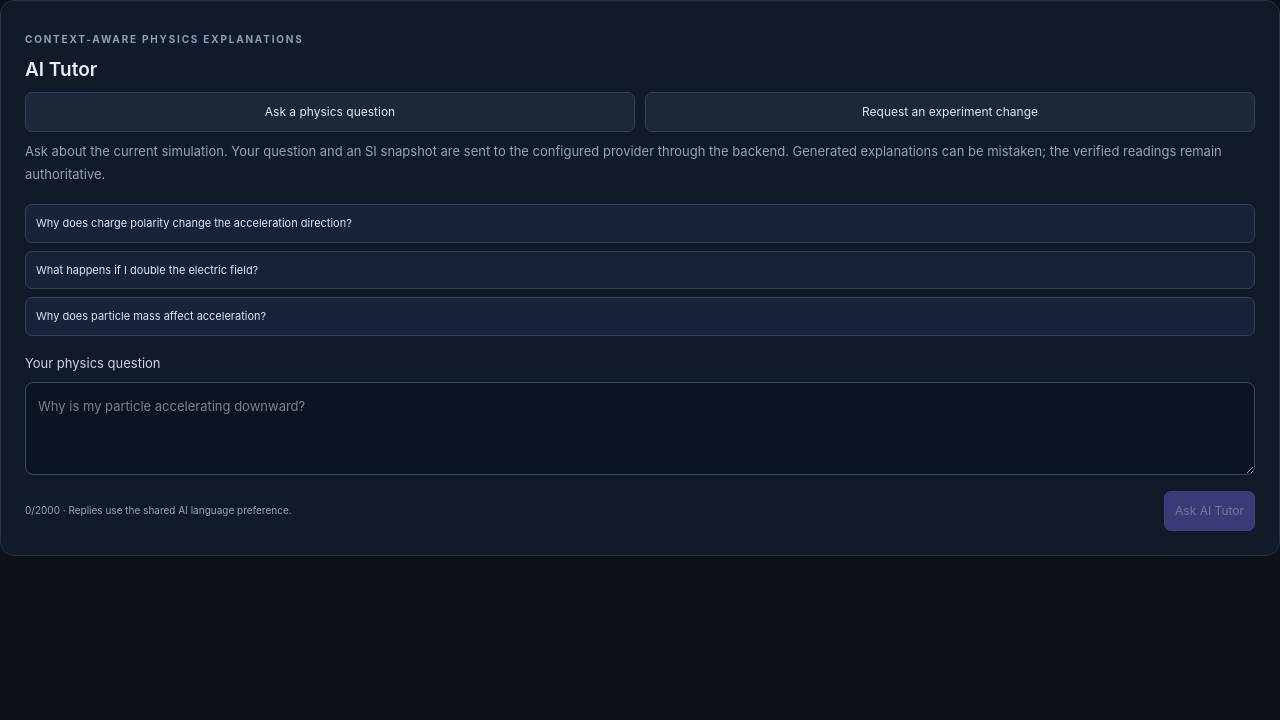
rejects invalid response with a safe error
Click the button "Request an experiment change" at (950, 112), box [645,92,1255,132]
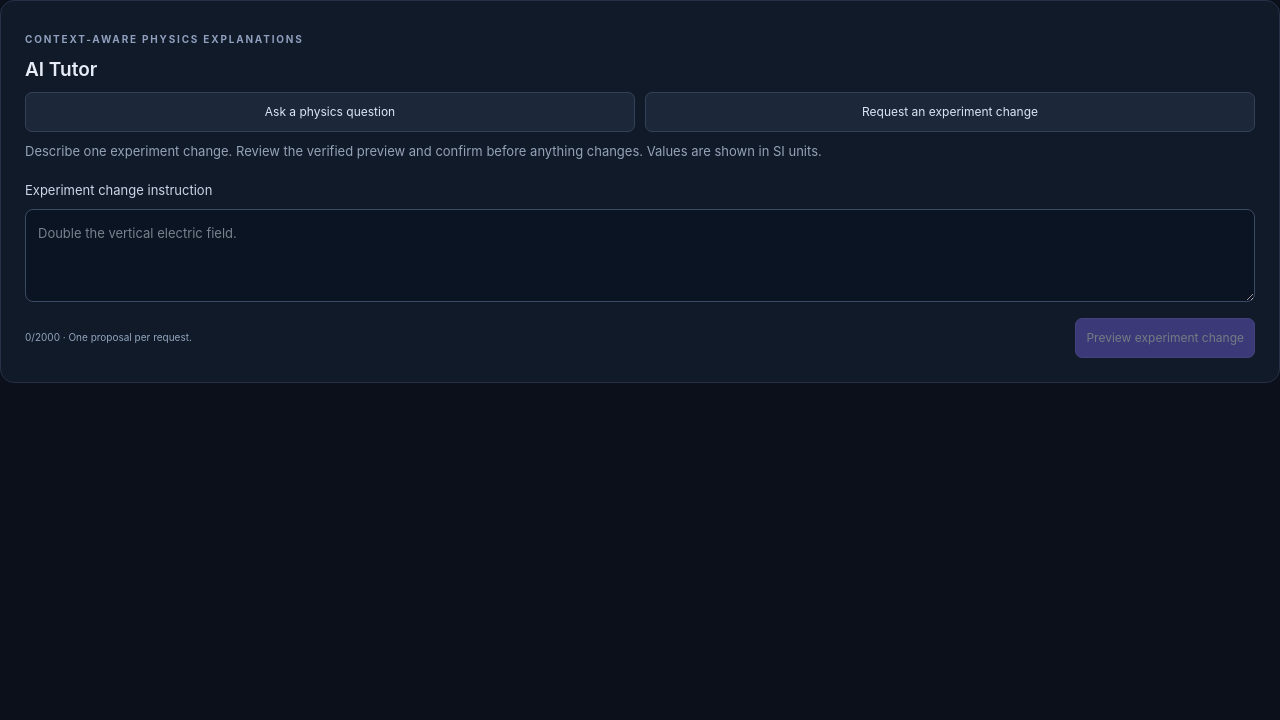
Type "Double Ey." into the text box labelled "Experiment change instruction" at (640, 256), box [25,209,1255,302]
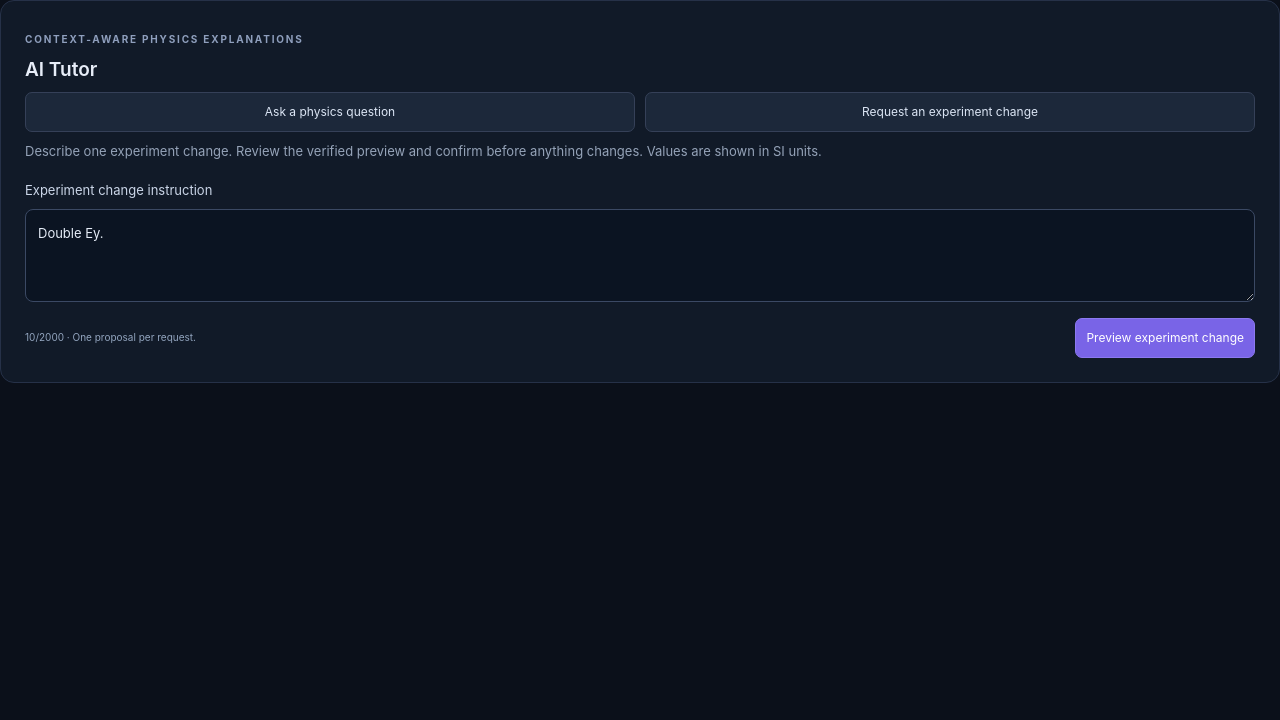
Click the button "Preview experiment change" at (1165, 338), box [1075,318,1255,358]
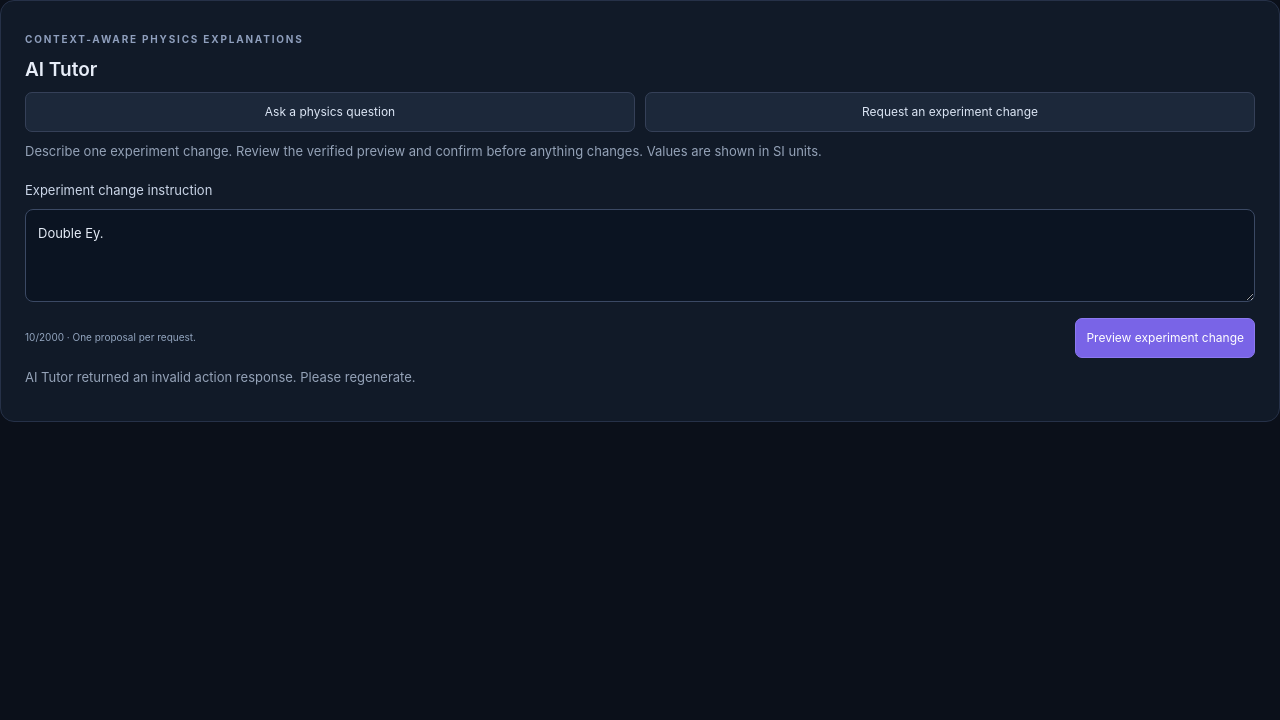
Result: the message shows "invalid action response" at [25,369,416,385]
